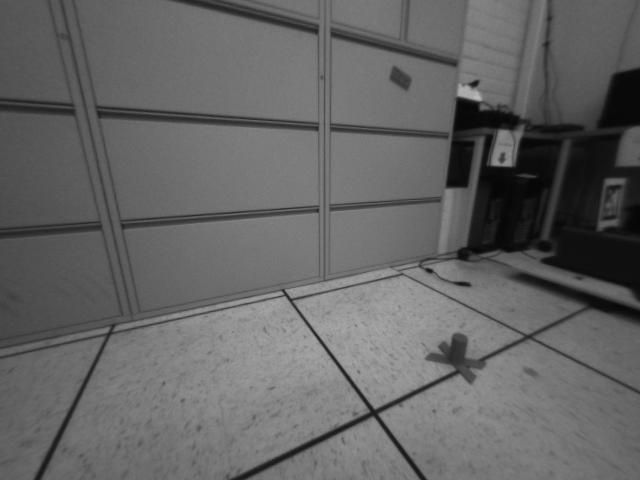X: (425, 333, 487, 385)
